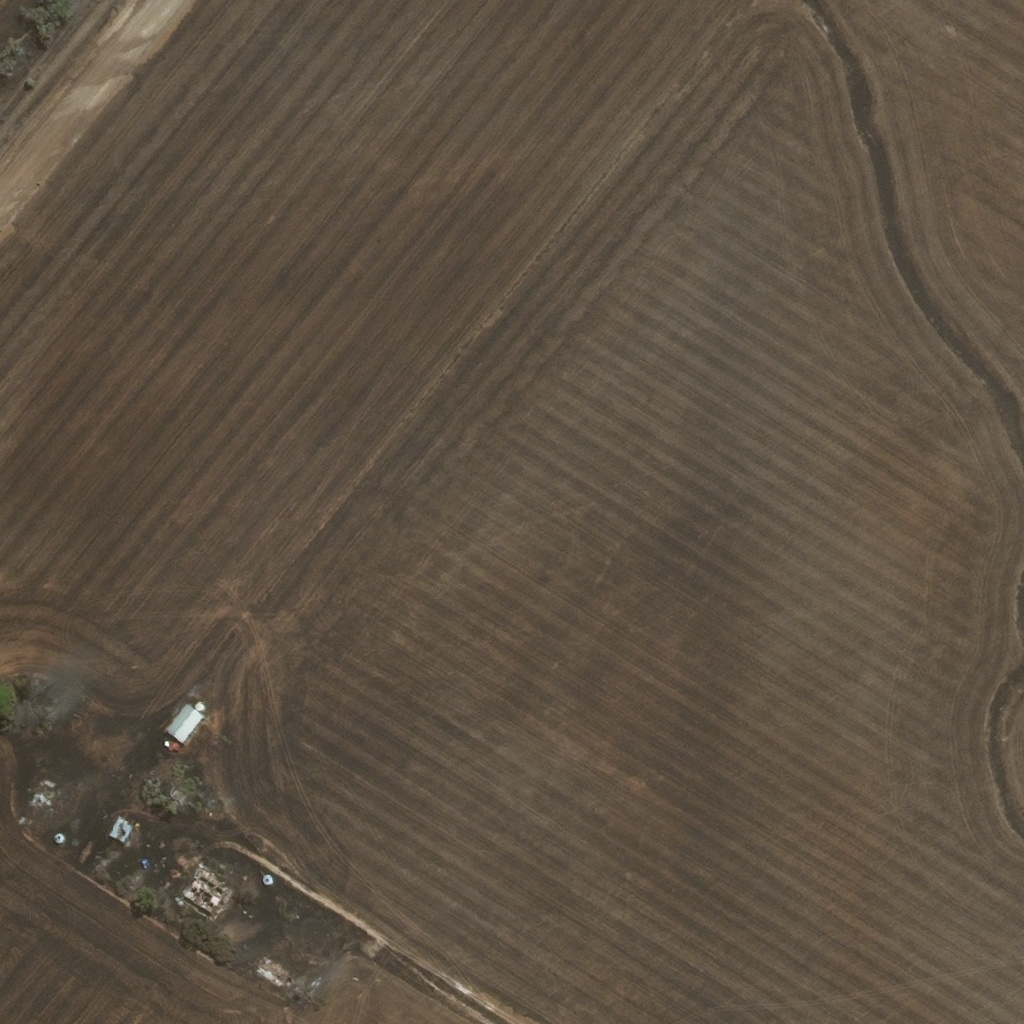0 no-damage: (165, 703, 204, 743), (53, 832, 64, 844), (263, 875, 273, 885), (194, 702, 204, 711)
1 minor-damage: (252, 958, 286, 985), (108, 816, 133, 842)
2 major-damage: (184, 869, 231, 913)
